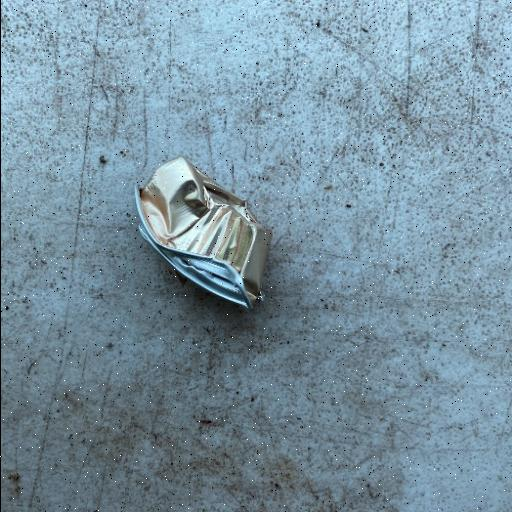Metal: (133, 154, 273, 310)
